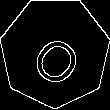O_NE: (23, 19, 87, 86)
